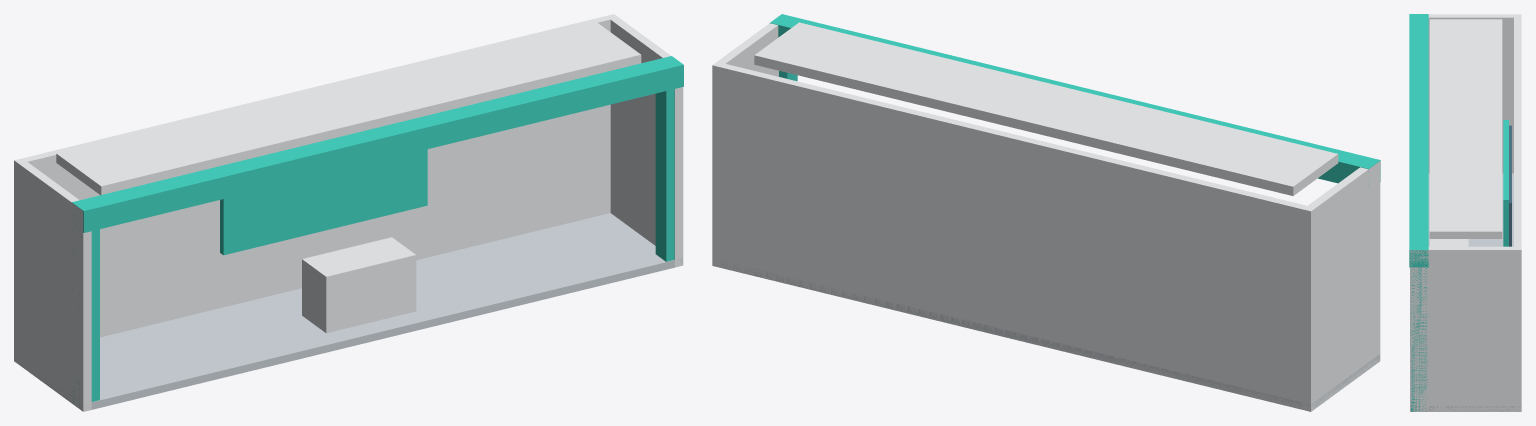
3 renders of one model, left to right at view 1: azimuth 30°, elevation 25°; view 2: azimuth 150°, elevation 25°; view 3: azimuth 270°, elevation 25°, orthographic. The views are drawn at different scales.
Parts seen in each view (by area): view 1: Exhibition Booth Concept; view 2: Exhibition Booth Concept; view 3: Exhibition Booth Concept.
Boxes of the visible parts, <box> form: Exhibition Booth Concept: <box>14,14,683,411</box>; Exhibition Booth Concept: <box>712,14,1380,411</box>; Exhibition Booth Concept: <box>1409,14,1521,411</box>.
Bounding box in the file's own units: 10 × 3.34 × 2.01.
